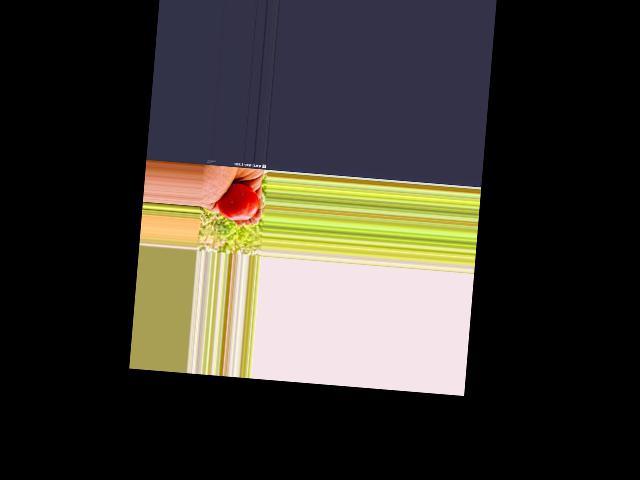tomato: (216, 182, 259, 221)
